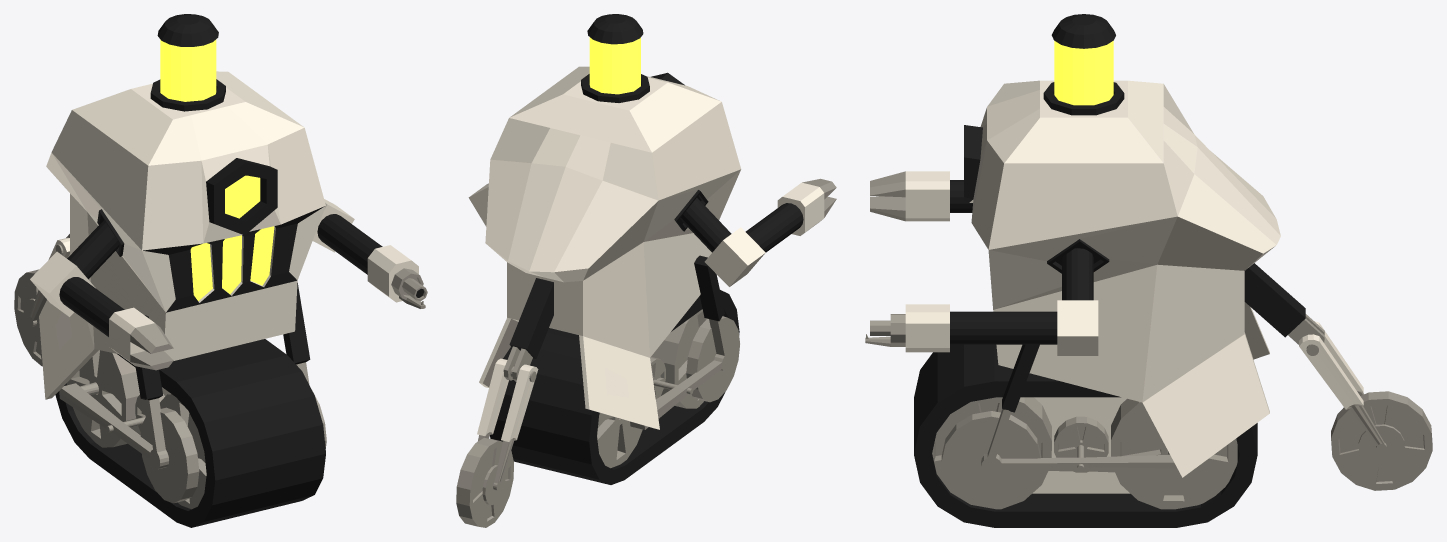
Rendered from Repair_Robot.fbx.
3 views of the same model, side by side, from view 1: azimuth 30°, elevation 25°; view 2: azimuth 150°, elevation 25°; view 3: azimuth 270°, elevation 25° (orthographic). The views are drawn at different scales.
Parts seen in each view (by area): view 1: Body, Main Wheels, Arms, Power Core, Screw Hand, Torch Hand, Support Wheel; view 2: Body, Main Wheels, Support Wheel, Arms, Power Core, Screw Hand; view 3: Body, Main Wheels, Support Wheel, Arms, Power Core, Screw Hand, Torch Hand.
Boxes of the visible parts, x1,y1,x2,y2 form: Body: [39, 71, 325, 399]; Main Wheels: [55, 282, 326, 527]; Arms: [30, 199, 382, 336]; Power Core: [157, 14, 218, 101]; Screw Hand: [109, 307, 173, 370]; Torch Hand: [367, 245, 427, 308]; Support Wheel: [14, 234, 69, 366]; Body: [479, 66, 741, 429]; Main Wheels: [490, 255, 739, 484]; Support Wheel: [456, 278, 553, 527]; Arms: [468, 183, 803, 286]; Power Core: [587, 14, 643, 94]; Screw Hand: [777, 178, 836, 235]; Body: [964, 80, 1280, 477]; Main Wheels: [914, 344, 1257, 527]; Support Wheel: [1244, 263, 1432, 490]; Arms: [950, 180, 1098, 355]; Power Core: [1051, 14, 1115, 105]; Screw Hand: [870, 171, 949, 221]; Torch Hand: [865, 304, 949, 352].
Size of the model in its own units: 174 by 250 by 268.
